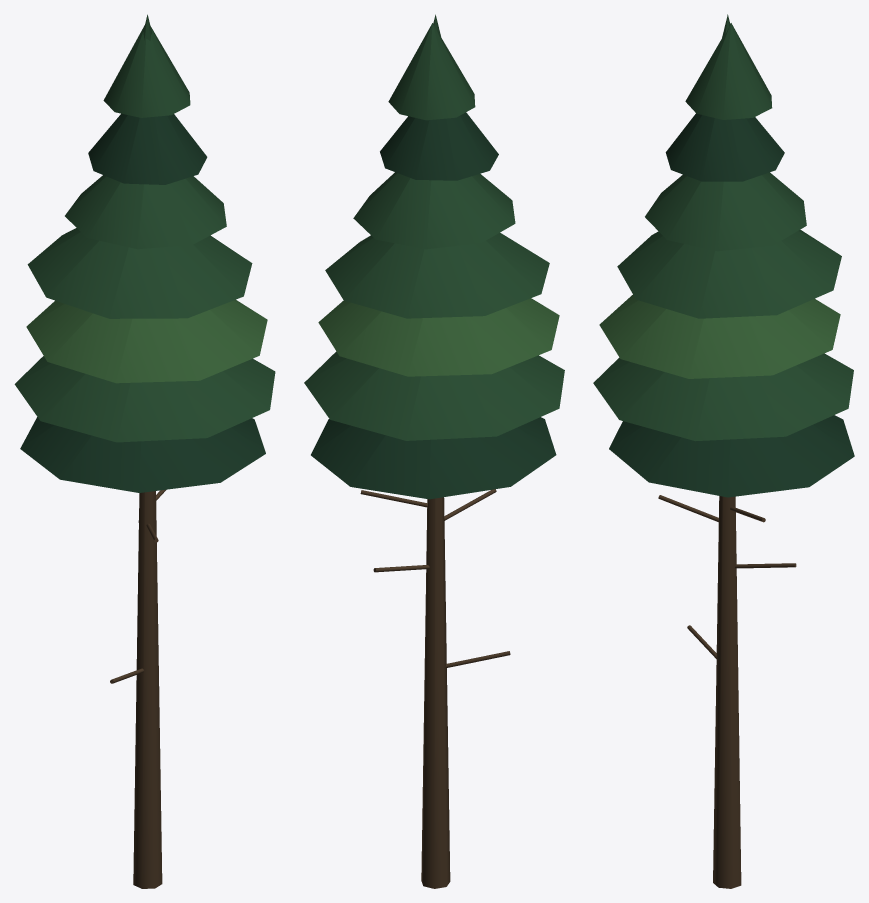
Rendered from EA05_conifer_pine.glb.
3 renders of one model, left to right at view 1: azimuth 30°, elevation 25°; view 2: azimuth 150°, elevation 25°; view 3: azimuth 270°, elevation 25°, orthographic.
Visible parts, largest first — view 1: branch_tier, trunk; view 2: branch_tier, trunk; view 3: branch_tier, trunk.
Part boxes in pixels (x1,y1,x2,y2): branch_tier: (14, 14, 275, 492); trunk: (110, 489, 166, 888); branch_tier: (304, 14, 564, 499); trunk: (360, 489, 510, 888); branch_tier: (593, 14, 854, 497); trunk: (658, 495, 796, 888).
Size of the model in its own units: 4.93 by 18.02 by 4.92.
